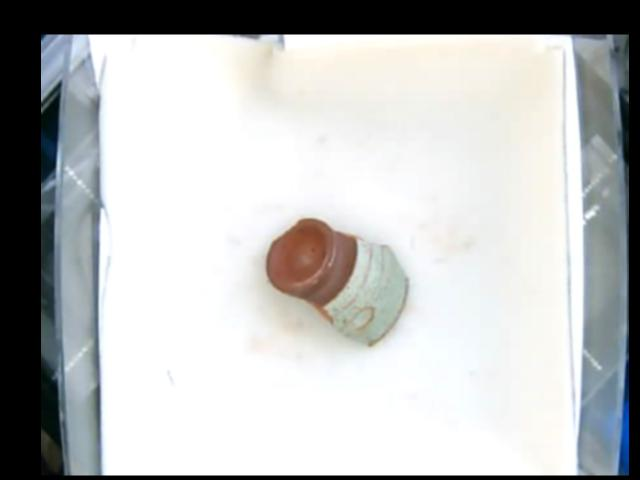China: (263, 219, 411, 344)
